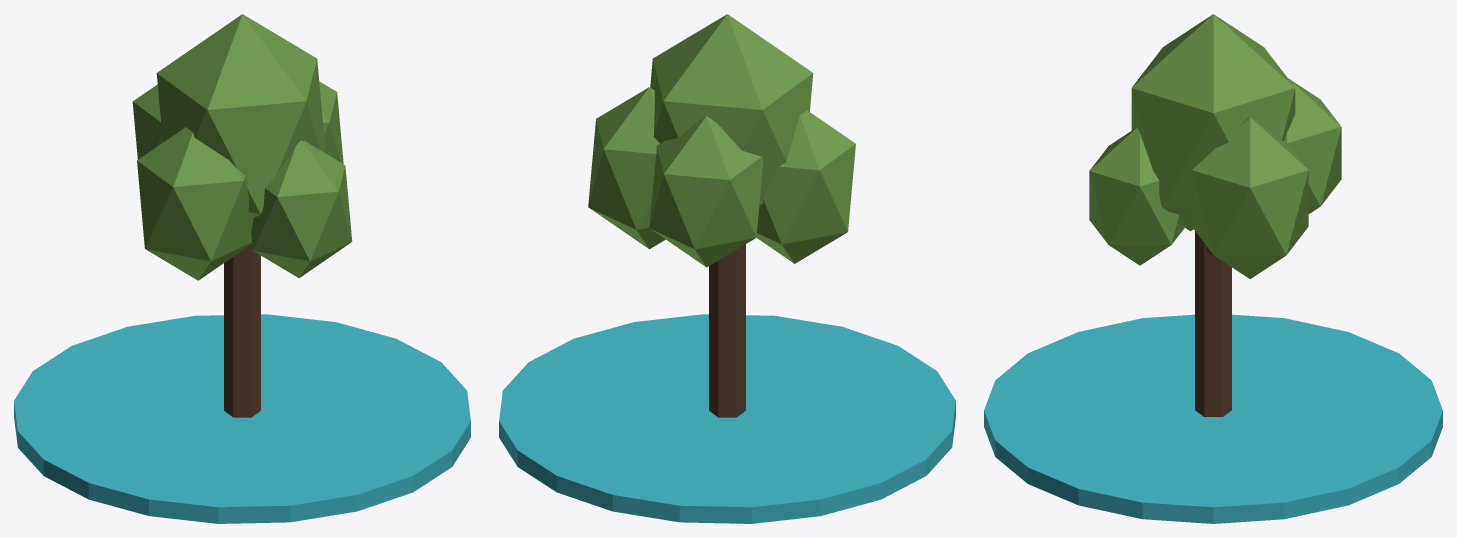
The model's file is lone_tree.glb.
The picture shows the model from 3 angles, left to right: view 1: azimuth 30°, elevation 25°; view 2: azimuth 150°, elevation 25°; view 3: azimuth 270°, elevation 25°; orthographic projection.
Parts seen in each view (by area): view 1: CLLoneTree; view 2: CLLoneTree; view 3: CLLoneTree.
Part boxes in pixels (x1,y1,x2,y2): CLLoneTree: [14, 14, 470, 523]; CLLoneTree: [499, 14, 955, 523]; CLLoneTree: [984, 14, 1442, 523].
Bounding box in the file's own units: 1 × 0.993 × 1.
